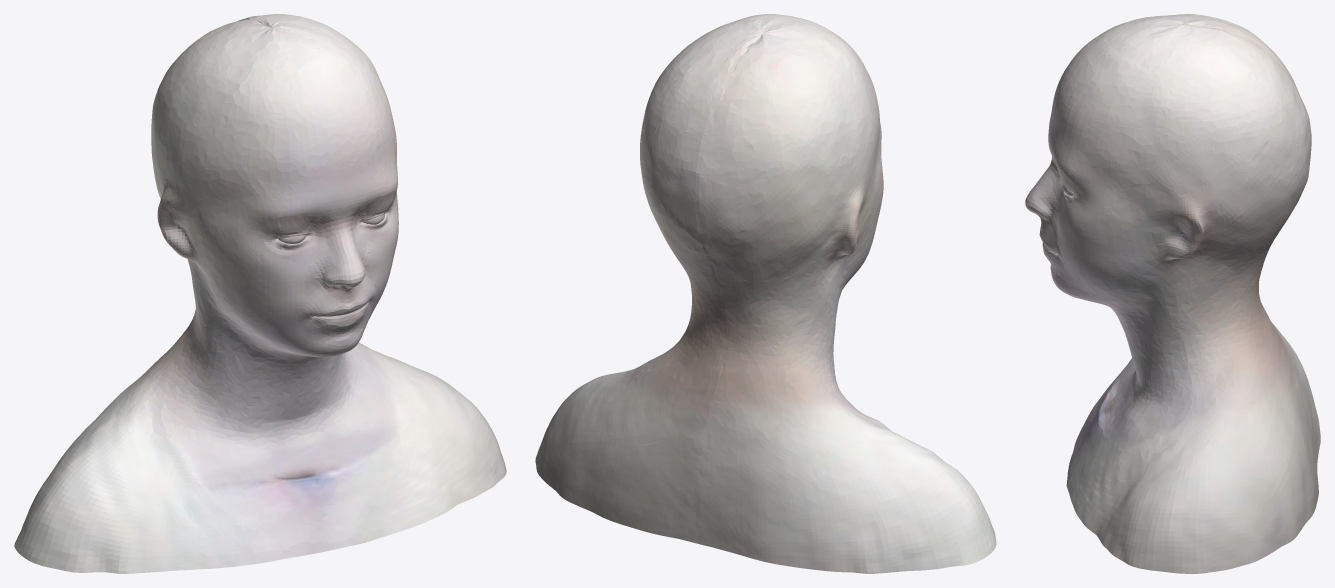
The model's file is hash.glb.
3 views of the same model, side by side, from view 1: azimuth 30°, elevation 25°; view 2: azimuth 150°, elevation 25°; view 3: azimuth 270°, elevation 25° (orthographic). The views are drawn at different scales.
Parts seen in each view (by area): view 1: Node1; view 2: Node1; view 3: Node1.
Boxes of the visible parts, bbox=[...] form: Node1: bbox=[14, 14, 506, 573]; Node1: bbox=[535, 14, 996, 573]; Node1: bbox=[1025, 14, 1320, 573].
Bounding box in the file's own units: 0.3902 × 0.3848 × 0.2292.
1 material, 1 textured.
